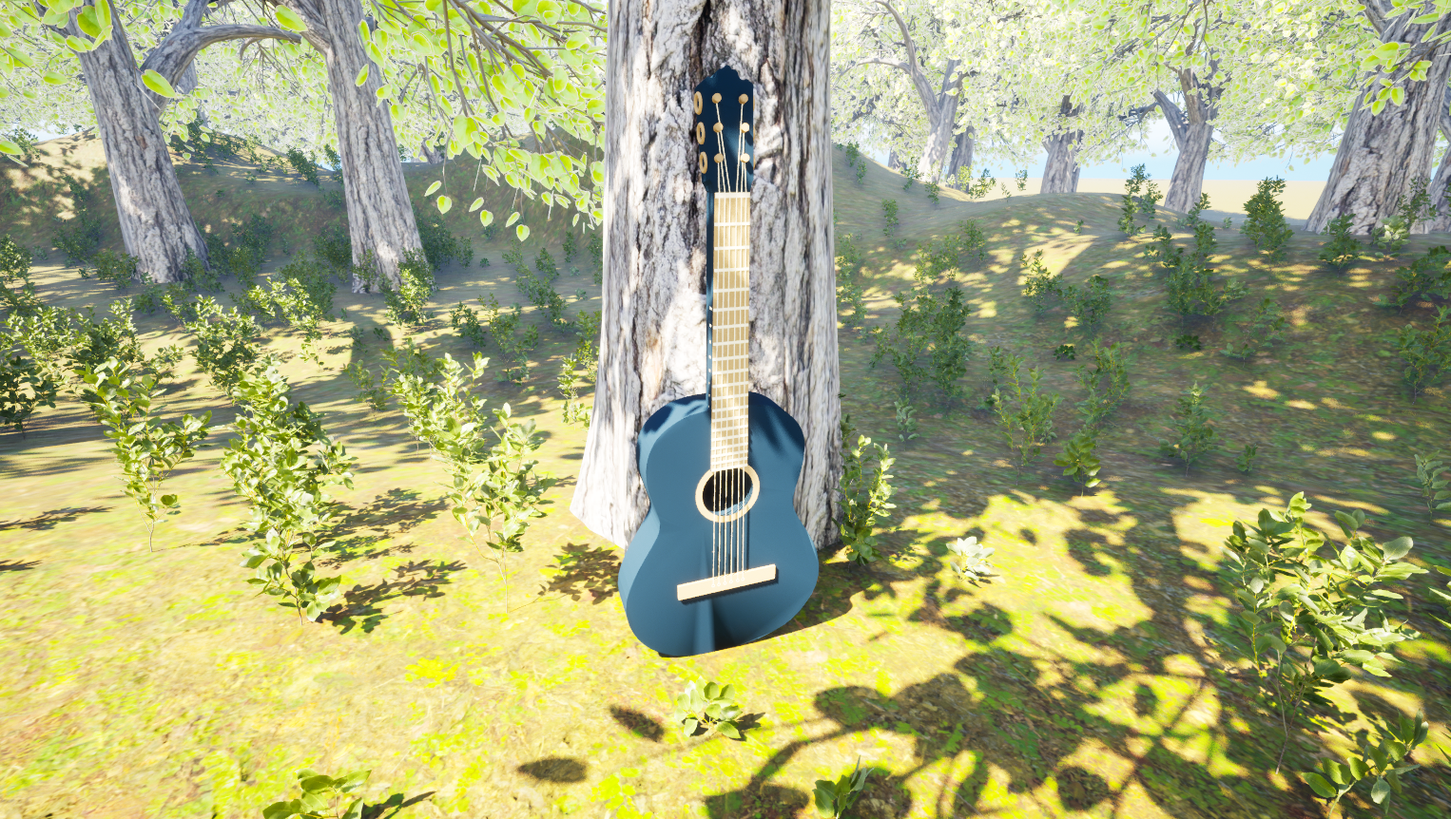Guitar: (578, 53, 854, 677)
